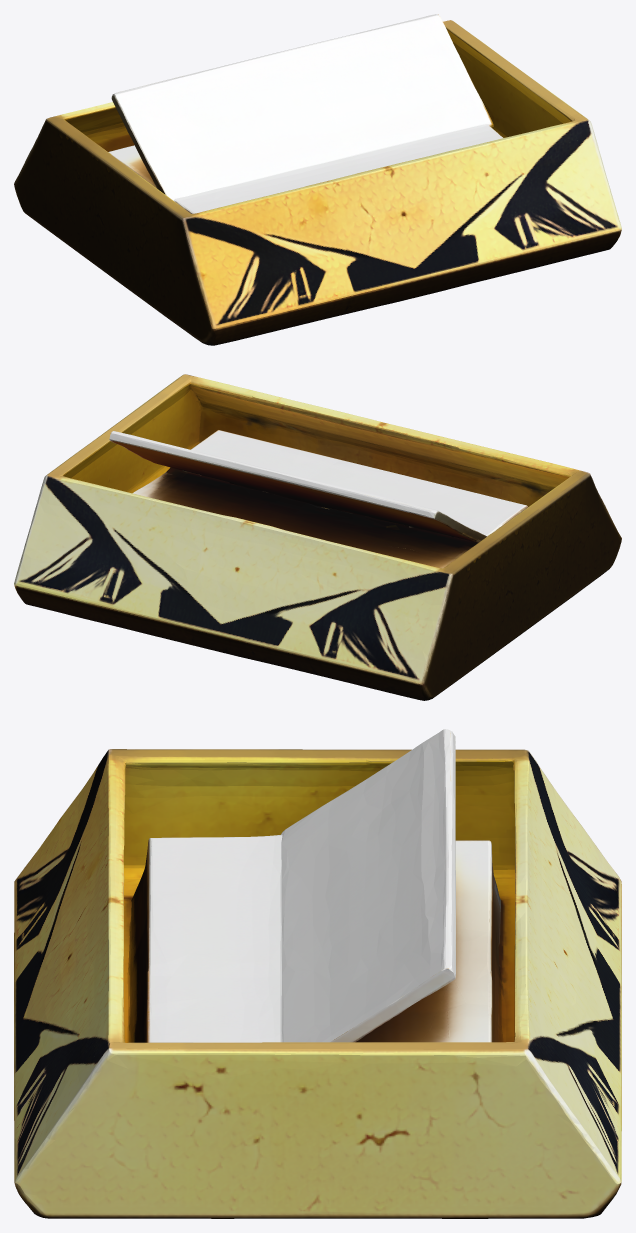
File: cork-business-card-holder-art-deco.jpeg.glb
3 views of the same model, one above another, from view 1: azimuth 30°, elevation 25°; view 2: azimuth 150°, elevation 25°; view 3: azimuth 270°, elevation 25° (orthographic). The views are drawn at different scales.
Parts seen in each view (by area): view 1: world; view 2: world; view 3: world.
Part boxes in pixels (x1=…): world: x1=14, y1=14, x2=621, y2=345; world: x1=14, y1=374, x2=621, y2=700; world: x1=14, y1=729, x2=621, y2=1218.
Size of the model in its own units: 1 by 0.3386 by 0.8448.
1 material, 1 textured.
